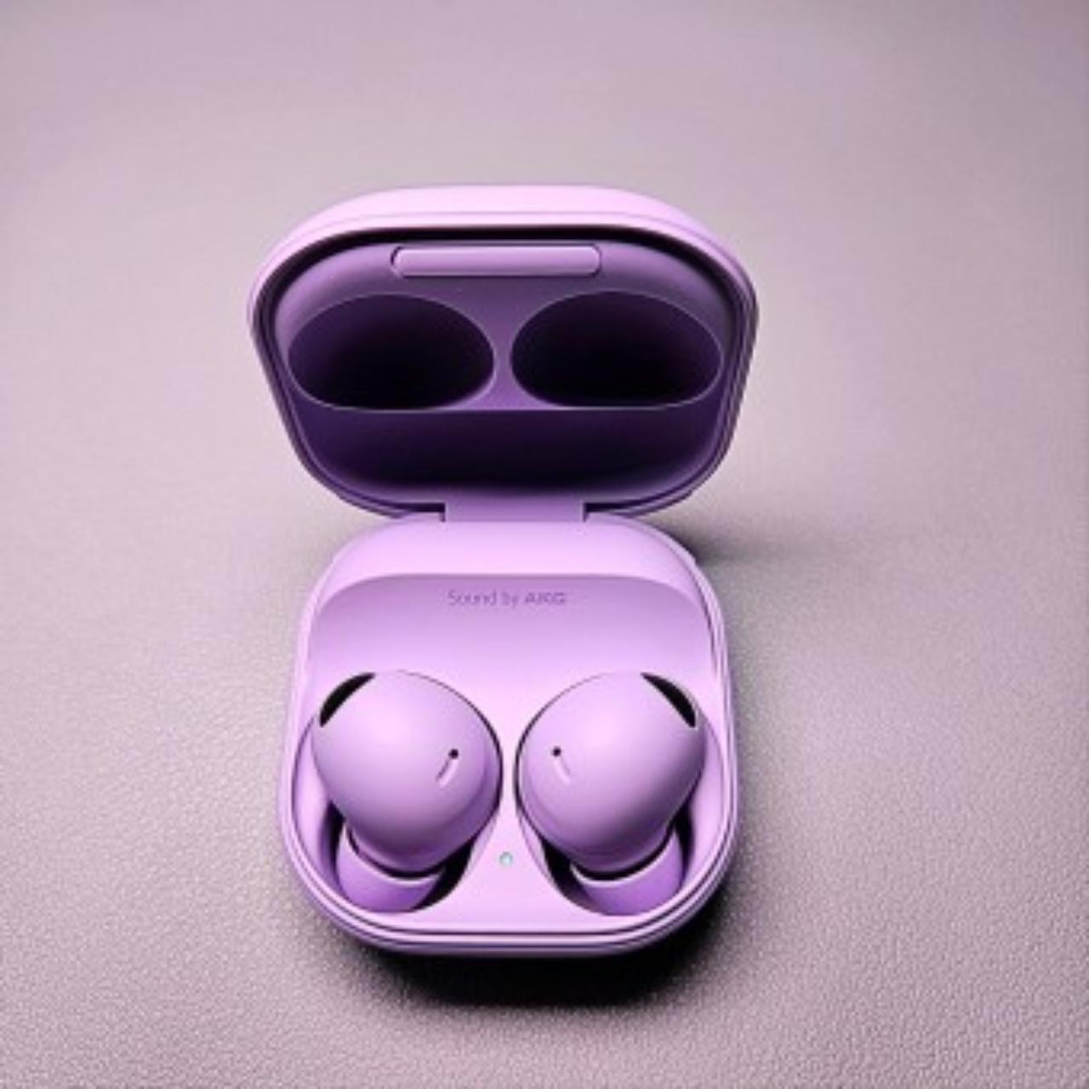Buds: (233, 174, 764, 984)
Buds_Units: (513, 661, 723, 915), (304, 657, 506, 915)
